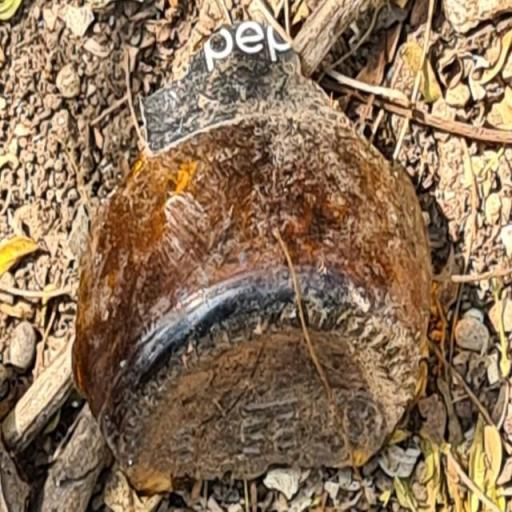glass: (62, 12, 451, 508)
